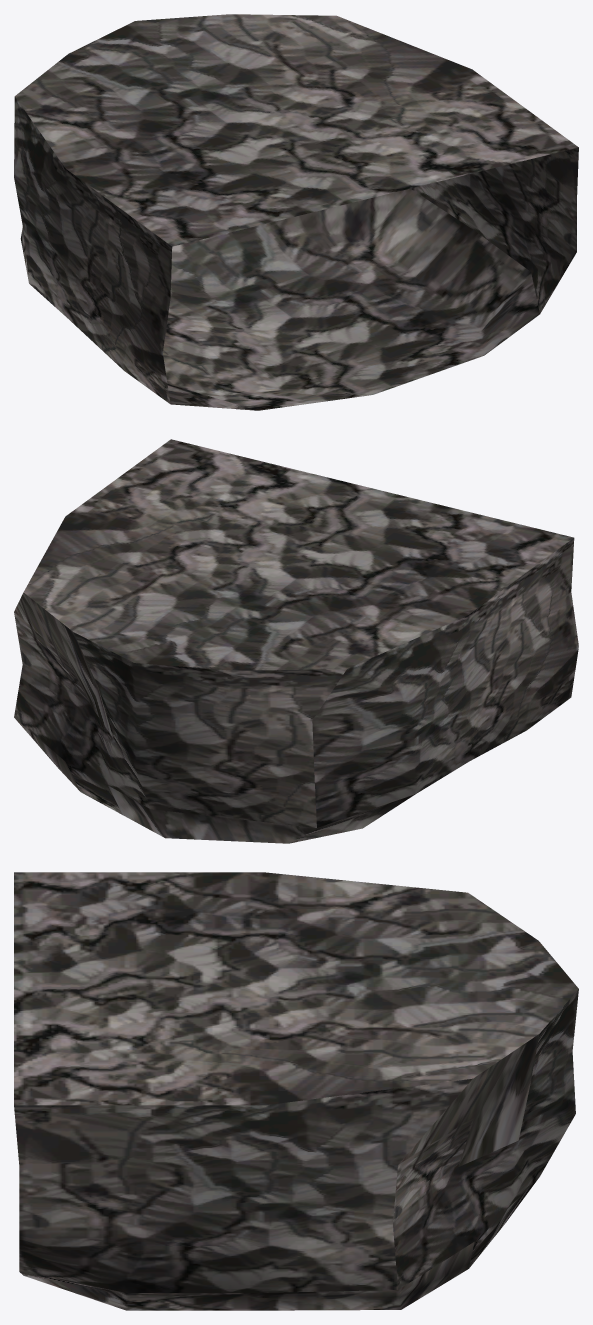
Rendered from INST_SM_LEDGEC.fbx.
3 views of the same model, one above another, from view 1: azimuth 30°, elevation 25°; view 2: azimuth 150°, elevation 25°; view 3: azimuth 270°, elevation 25° (orthographic). The views are drawn at different scales.
Parts seen in each view (by area): view 1: INST_SM_LEDGEC; view 2: INST_SM_LEDGEC; view 3: INST_SM_LEDGEC.
Part boxes in pixels (box(x1,y1,x2,y2)): INST_SM_LEDGEC: box(14, 14, 578, 410); INST_SM_LEDGEC: box(14, 439, 578, 843); INST_SM_LEDGEC: box(14, 872, 578, 1310).
Bounding box in the file's own units: 26472 × 13010 × 26632.
1 material, 1 textured.
